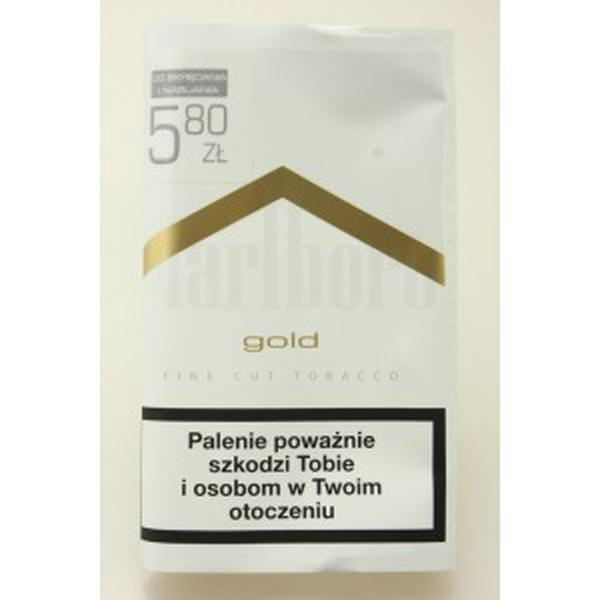marlboro_gold: (142, 37, 452, 557)
